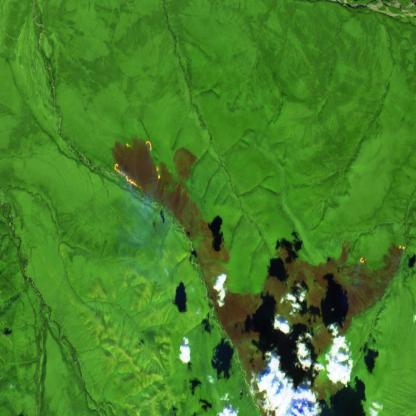fire: (113, 133, 163, 191)
